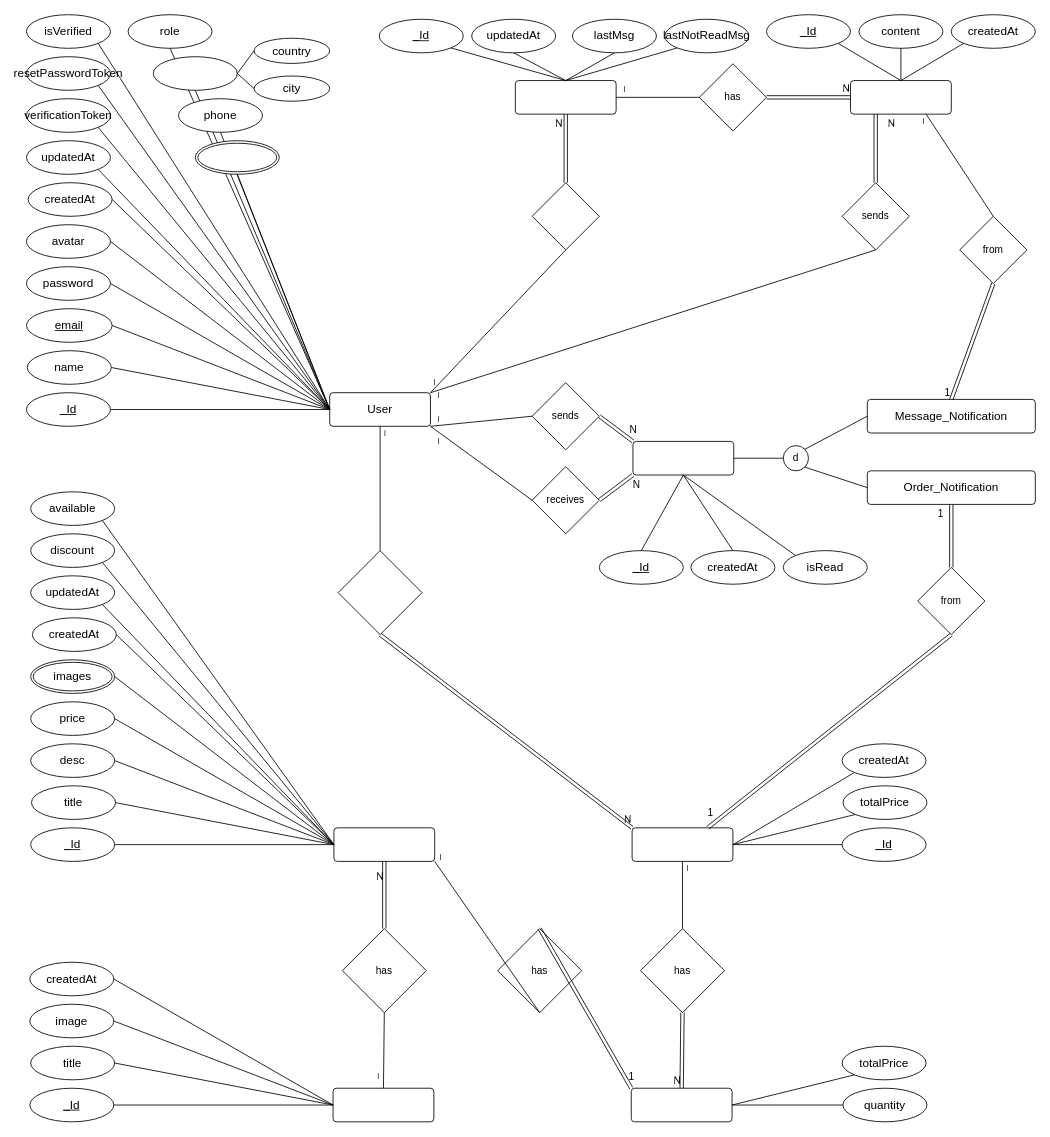
The diagram is 1050 pixels wide and 1137 high, and some of its shapes have lost their labels. The centre of each missing label's shape, as x and y in pixels:
"address" goes at point 194,73.
"cartProducts" goes at point 236,157.
"Category" goes at point 383,1104.
"Chat" goes at point 565,97.
"creates" goes at point 565,216.
"makes" goes at point 379,592.
"Message" goes at point 900,97.
"Notification" goes at point 683,458.
"Order" goes at point 682,844.
"Order_Item" goes at point 681,1104.
"Product" goes at point 384,844.
